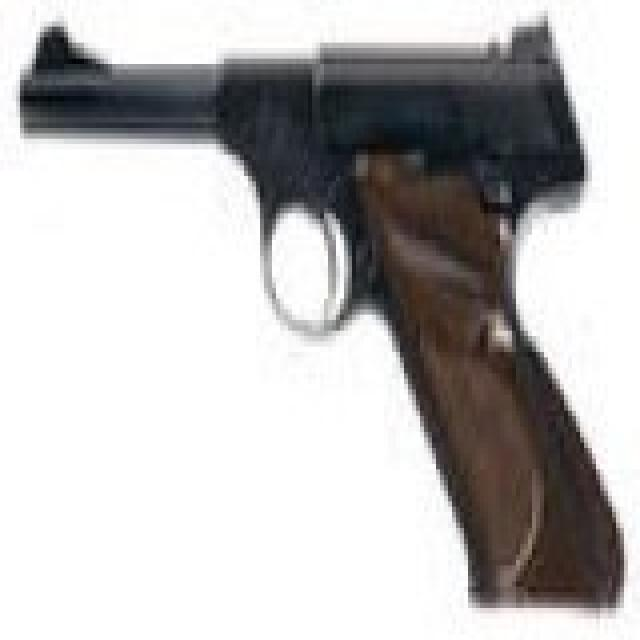Gun: (16, 14, 627, 612)
